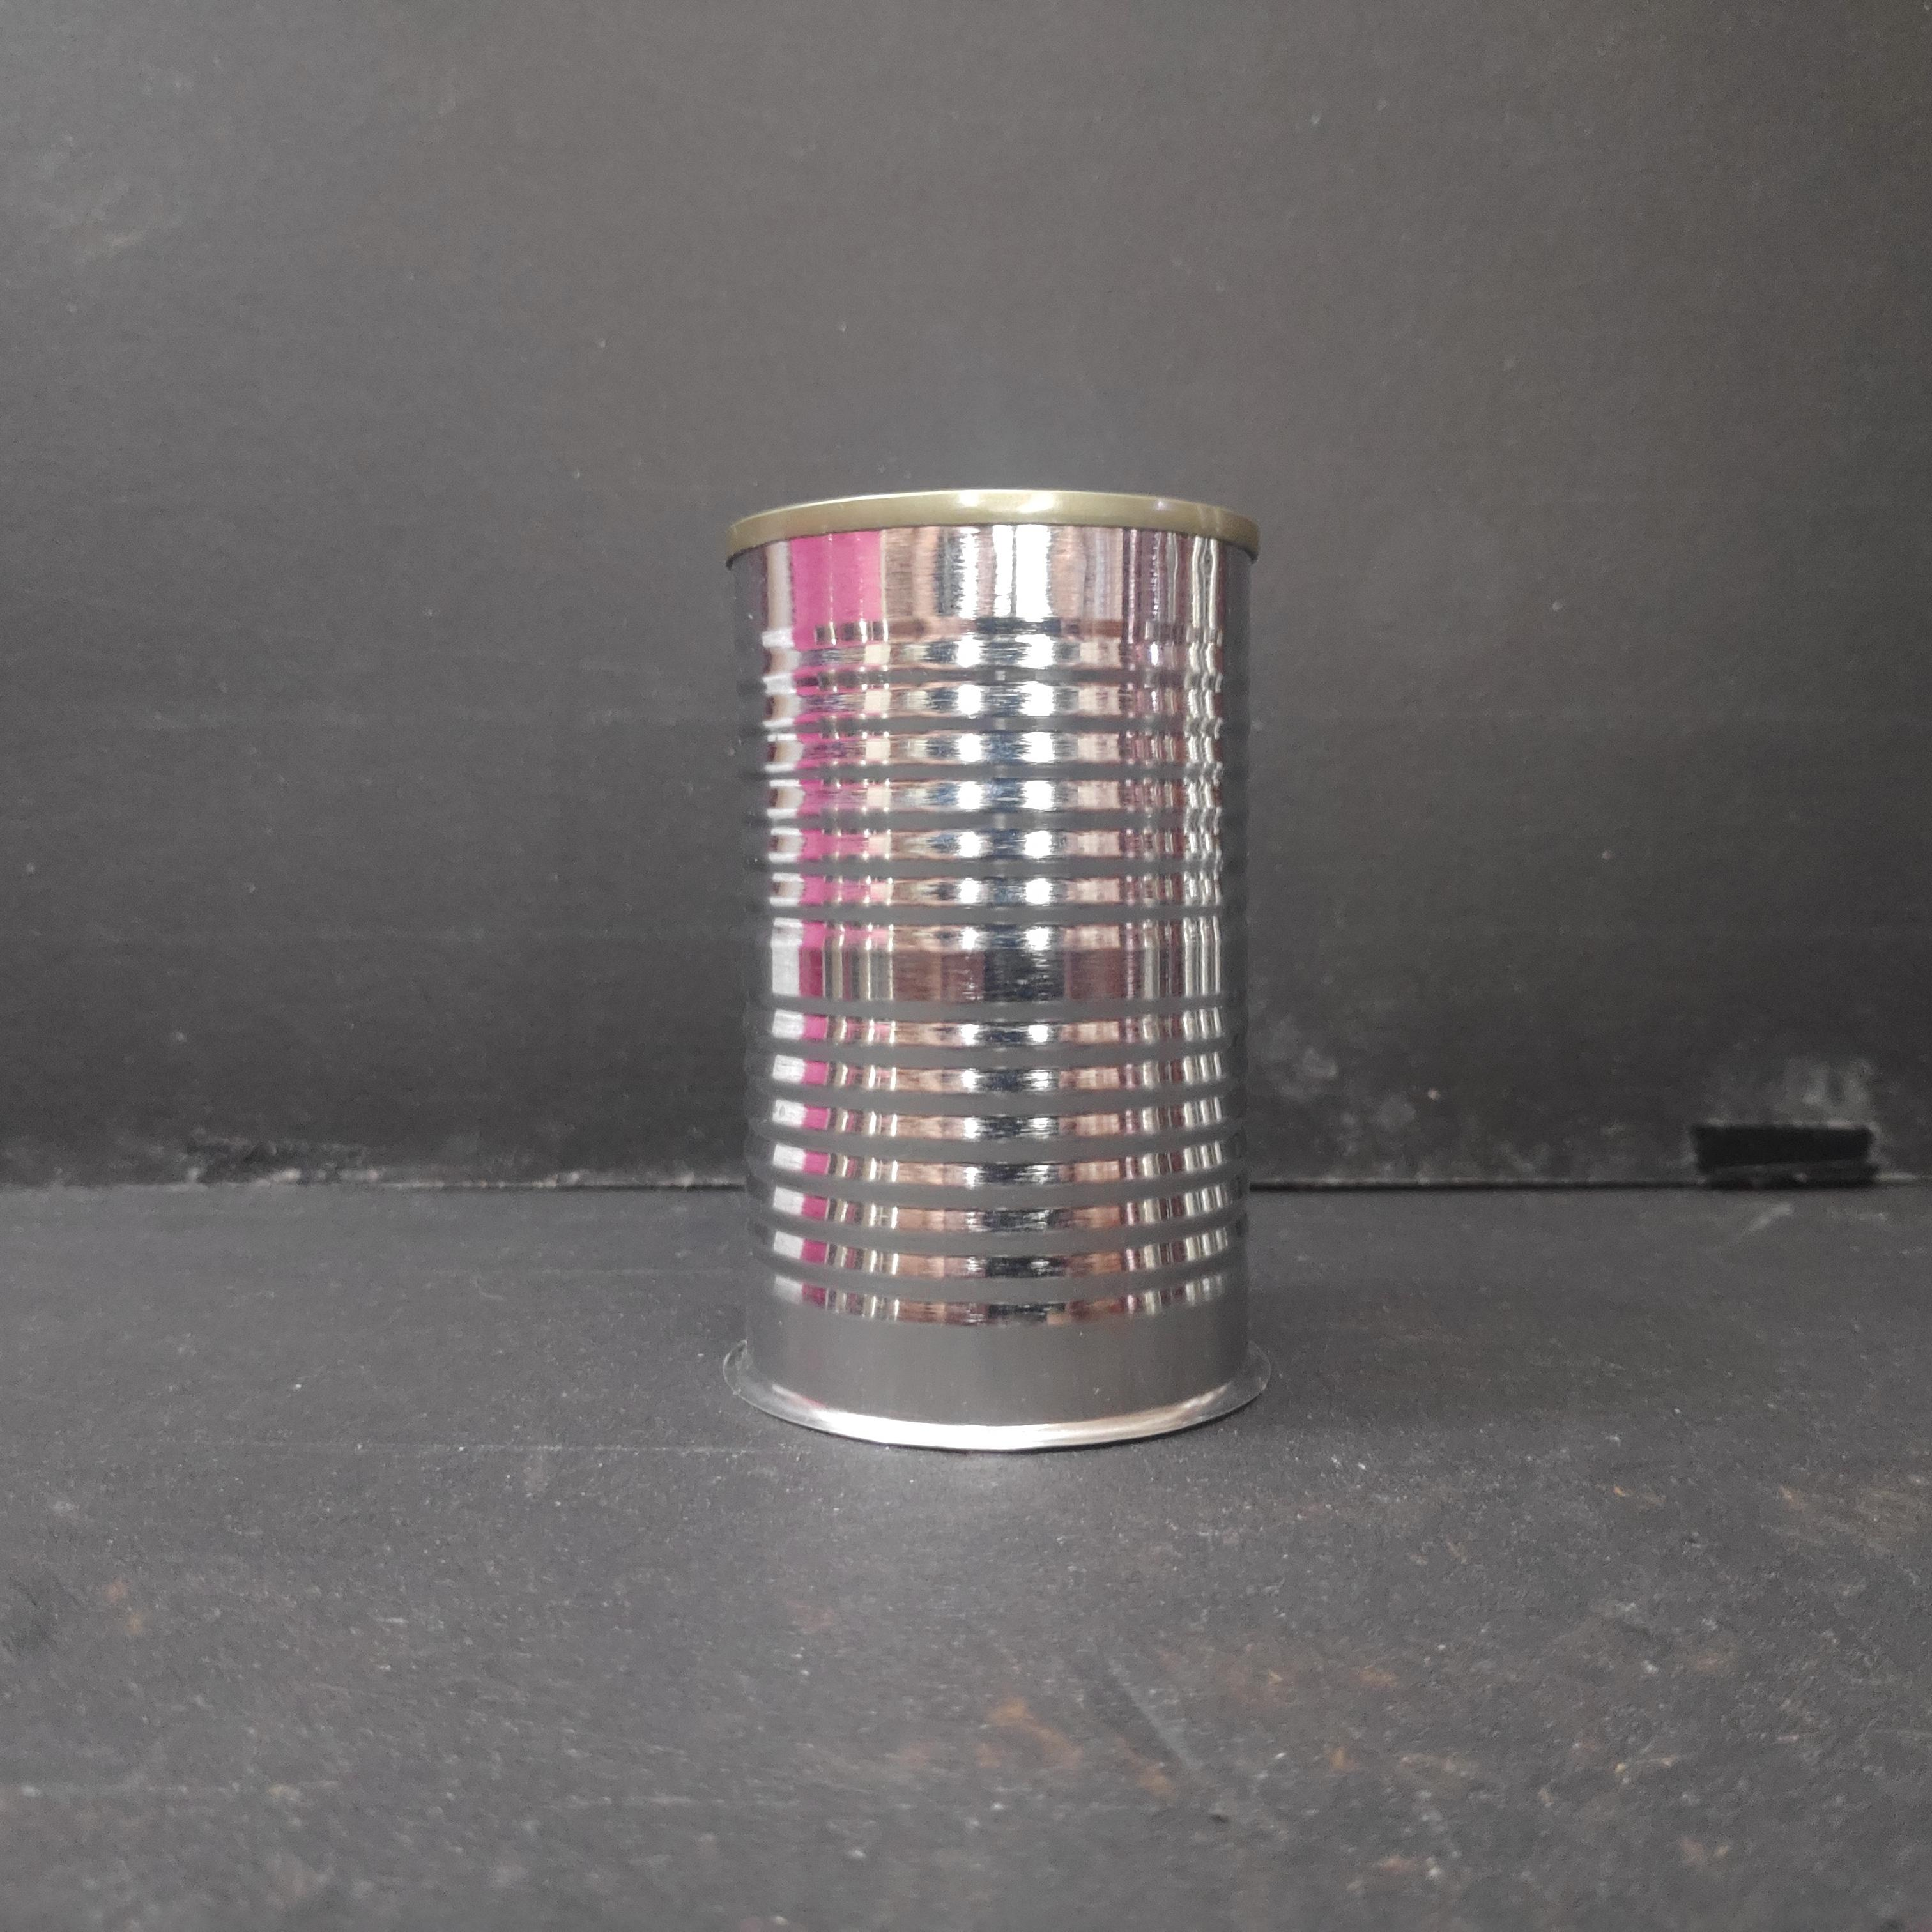No defect: (724, 476, 1270, 1456)
